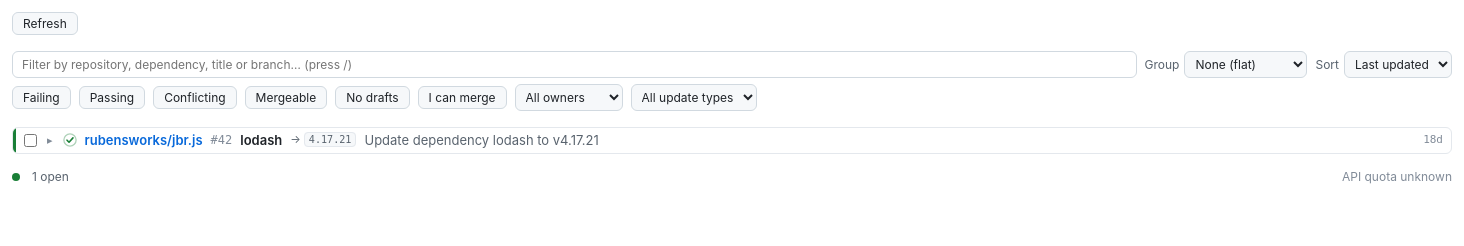
Test: Dashboard › actions › selects a row, and shows the bulk bar once something is selected
Check: the text "1 selected" is not shown
Click the checkbox named "Select rubensworks/jbr.js #42". click: (30, 140)
box: [24, 134, 37, 147]
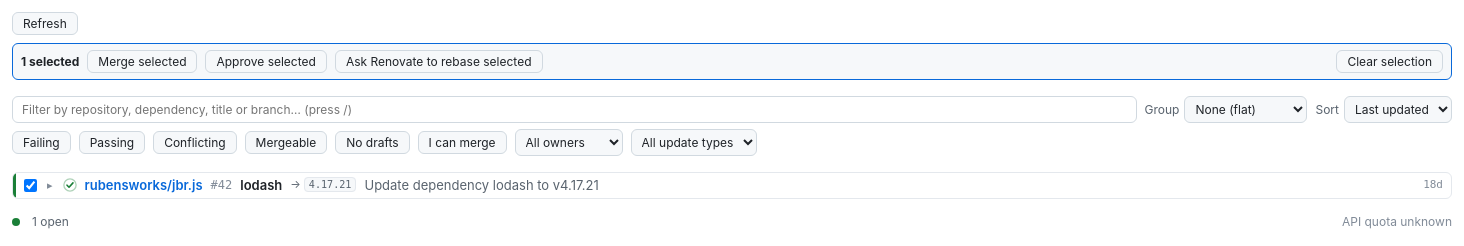
Check: the text "1 selected" is shown, box [21, 53, 79, 70]
